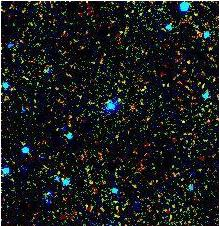star: (103, 86, 133, 116)
